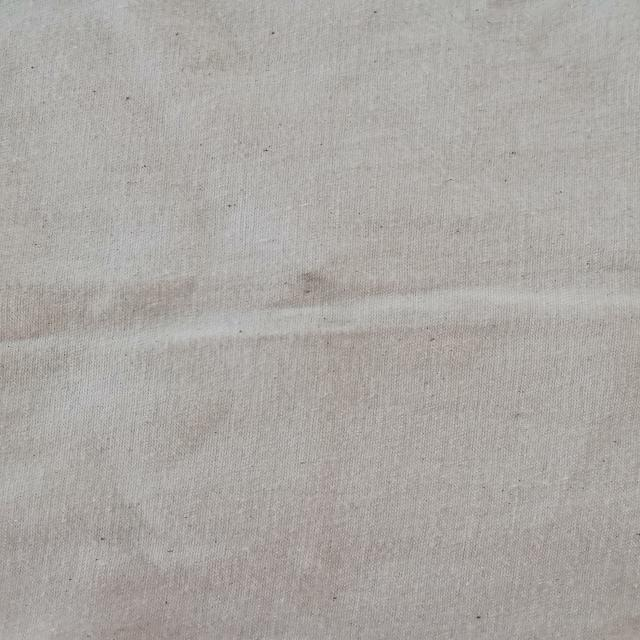taaaches: (246, 264, 404, 330)
